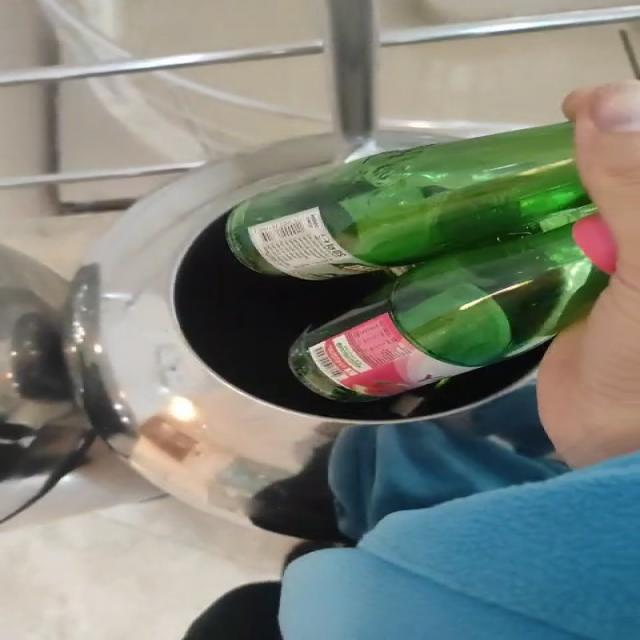Glass: (225, 123, 608, 401)
